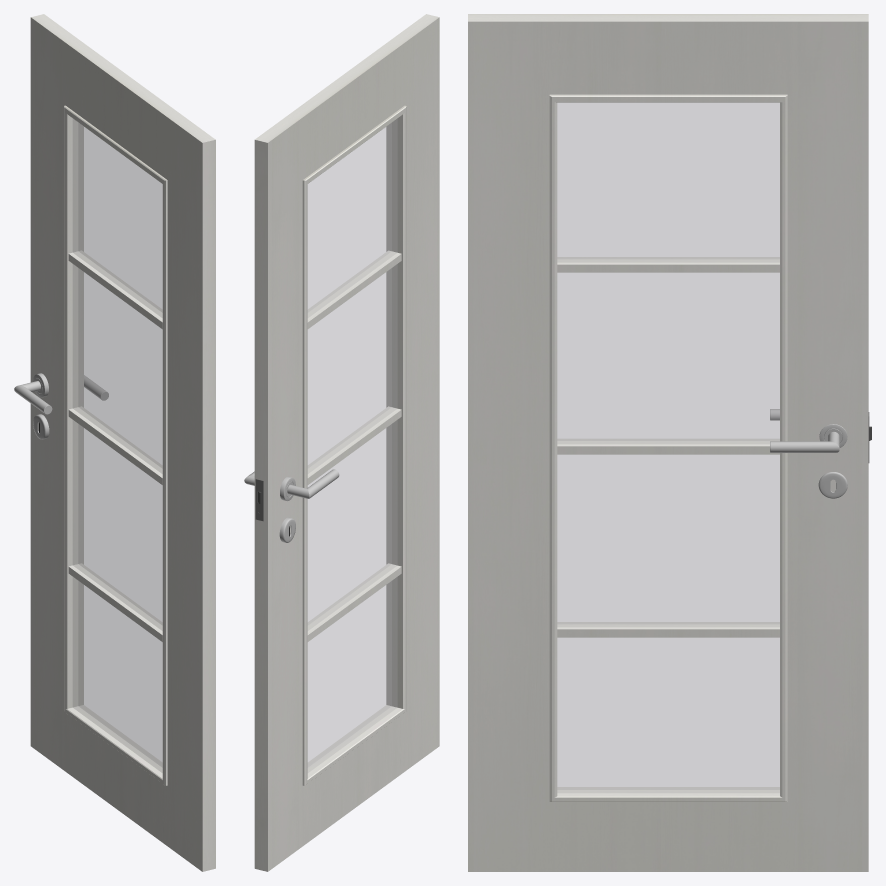
Rendered from door16.glb.
The picture shows the model from 3 angles, left to right: view 1: azimuth 30°, elevation 25°; view 2: azimuth 150°, elevation 25°; view 3: azimuth 270°, elevation 25°; orthographic projection. The views are drawn at different scales.
Visible parts, largest first — view 1: TB-LA1-DQ+SP30, Door_Handle_01; view 2: TB-LA1-DQ+SP30, Door_Handle_01; view 3: TB-LA1-DQ+SP30, Door_Handle_01.
Boxes of the visible parts, left/top/right/bottom form: TB-LA1-DQ+SP30: left=30, top=14, right=215, bottom=871; Door_Handle_01: left=14, top=373, right=108, bottom=439; TB-LA1-DQ+SP30: left=254, top=14, right=439, bottom=871; Door_Handle_01: left=244, top=469, right=339, bottom=542; TB-LA1-DQ+SP30: left=468, top=14, right=871, bottom=871; Door_Handle_01: left=770, top=409, right=847, bottom=498.
Size of the model in its own units: 0.1566 by 1.67 by 0.7188.
Materials: 6 (1 with a texture image).
